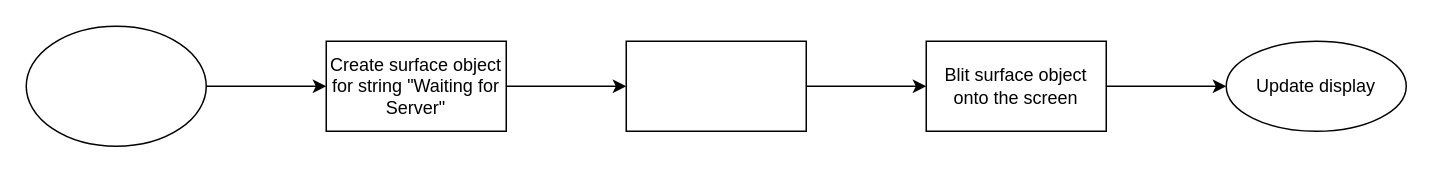
Some shapes in this 1433 by 173 pixel diagram are drawn without their labels. The shapes that lost their labels are listed below. From the top down, each one's centre as x and y in pixels, then its label:
At (115,85): "RenderWaitingText() Called".
At (715,85): "Find size of surface object in pixels".
